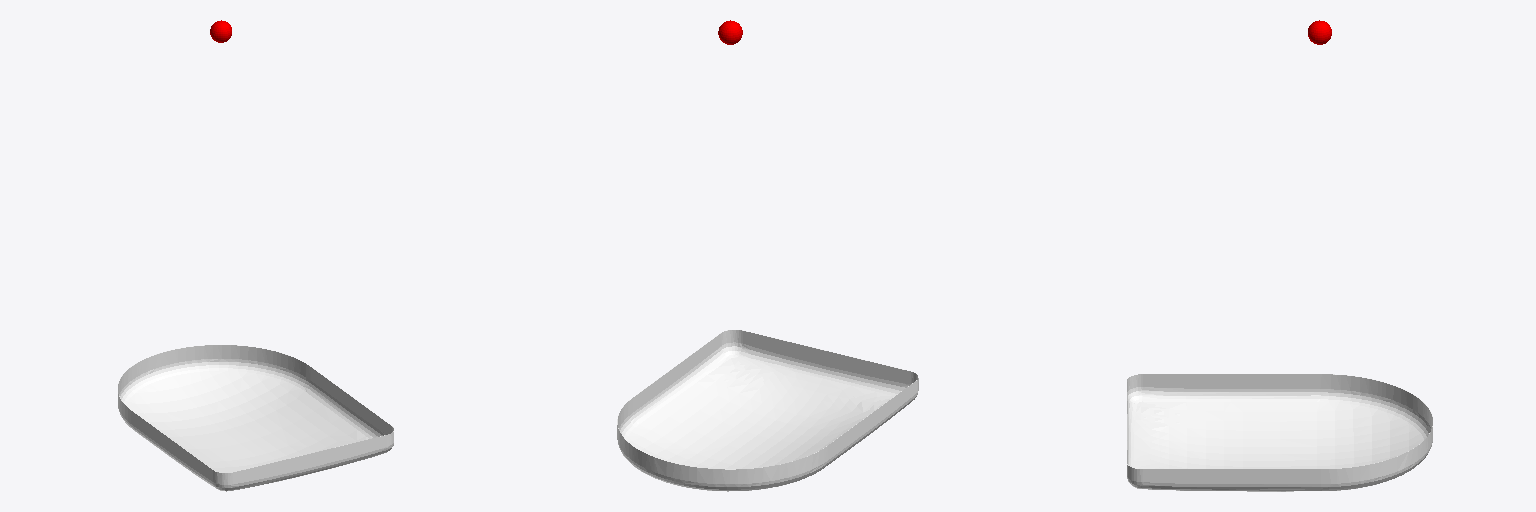
The robot description file, URDF, robot "panda":
<?xml version="1.0" ?>

<robot name="panda" xmlns:xacro="http://www.ros.org/wiki/xacro">

  <material name="Blue">
    <color rgba="0 0.1 1.0 1.0"/>
  </material>
  <material name="Red">
    <color rgba="1.0 0.0 0.0 1.0"/>
  </material>
  <material name="TransparentRed">
    <color rgba="0.9 0 0.2 0.5"/>
  </material>

  <!-- connect arm to world -->
    <link name="world"/>
    <joint name="world_joint" type="fixed">
      <parent link="world"/>
      <child link="fixed_base"/>
      <origin rpy="0.0 0.0 -3.14" xyz="0.0 0.0 0.0"/>
    </joint>

  <link name="fixed_base">
  	<inertial>
      <origin rpy="0 0 0" xyz="0 0 0.05"/>
       <mass value="2.9"/>
       <inertia ixx="0.1" ixy="0" ixz="0" iyy="0.1" iyz="0" izz="0.1"/>
    </inertial>
    <visual>
      <geometry>
        <mesh filename="../collision/link0.obj"/>
      </geometry>
      <material name="panda_white">
    		<color rgba="1. 1. 1. 1."/>
  		</material>
    </visual>
    <collision>
      <geometry>
        <mesh filename="../collision/link0.obj"/>
      </geometry>
      <material name="panda_white"/>
    </collision>
  </link>

  <link name="panda_link1">
  	<inertial>
      <origin rpy="0 0 0" xyz="0 -0.04 -0.05"/>
       <mass value="2.7"/>
       <inertia ixx="0.1" ixy="0" ixz="0" iyy="0.1" iyz="0" izz="0.1"/>
    </inertial>
    <visual>
      <geometry>
        <mesh filename="visual/link1.obj"/>
      </geometry>
      <material name="panda_white"/>
    </visual>
    <collision>
      <geometry>
        <mesh filename="../collision/link1.obj"/>
      </geometry>
      <material name="panda_white"/>
    </collision>
  </link>

  <joint name="panda_joint1" type="revolute">
    <safety_controller k_position="100.0" k_velocity="40.0" soft_lower_limit="-2.8973" soft_upper_limit="2.8973"/>
    <origin rpy="0 0 0" xyz="0 0 0.333"/>
    <parent link="fixed_base"/>
    <child link="panda_link1"/>
    <axis xyz="0 0 1"/>
    <limit effort="87" lower="-100" upper="100" velocity="2.1750"/>
  </joint>

  <link name="panda_link2">
  	<inertial>
      <origin rpy="0 0 0" xyz="0 -0.04 0.06"/>
       <mass value="2.73"/>
       <inertia ixx="0.1" ixy="0" ixz="0" iyy="0.1" iyz="0" izz="0.1"/>
    </inertial>
    <visual>
      <geometry>
        <mesh filename="visual/link2.obj"/>
      </geometry>
      <material name="panda_white"/>
    </visual>
    <collision>
      <geometry>
        <mesh filename="../collision/link2.obj"/>
      </geometry>
      <material name="panda_white"/>
    </collision>
  </link>

  <joint name="panda_joint2" type="revolute">
    <safety_controller k_position="100.0" k_velocity="40.0" soft_lower_limit="-1.7628" soft_upper_limit="1.7628"/>
    <origin rpy="-1.57079632679 0 0" xyz="0 0 0"/>
    <parent link="panda_link1"/>
    <child link="panda_link2"/>
    <axis xyz="0 0 1"/>
    <limit effort="87" lower="-100" upper="100" velocity="2.1750"/>
  </joint>

  <link name="panda_link3">
	  <inertial>
      <origin rpy="0 0 0" xyz="0.01 0.01 -0.05"/>
       <mass value="2.04"/>
       <inertia ixx="0.1" ixy="0" ixz="0" iyy="0.1" iyz="0" izz="0.1"/>
    </inertial>
    <visual>
      <geometry>
        <mesh filename="visual/link3.obj"/>
      </geometry>
      <material name="panda_red">
    		<color rgba="1. 1. 1. 1."/>
  		</material>
    </visual>
    <collision>
      <geometry>
        <mesh filename="../collision/link3.obj"/>
      </geometry>
    </collision>
  </link>

  <joint name="panda_joint3" type="revolute">
    <safety_controller k_position="100.0" k_velocity="40.0" soft_lower_limit="-2.8973" soft_upper_limit="2.8973"/>
    <origin rpy="1.57079632679 0 0" xyz="0 -0.316 0"/>
    <parent link="panda_link2"/>
    <child link="panda_link3"/>
    <axis xyz="0 0 1"/>
    <limit effort="87" lower="-100" upper="100" velocity="2.1750"/>
  </joint>

  <link name="panda_link4">
  	<inertial>
      <origin rpy="0 0 0" xyz="-0.03 0.03 0.02"/>
       <mass value="2.08"/>
       <inertia ixx="0.1" ixy="0" ixz="0" iyy="0.1" iyz="0" izz="0.1"/>
    </inertial>
    <visual>
      <geometry>
        <mesh filename="visual/link4.obj"/>
      </geometry>
      <material name="panda_white"/>
    </visual>
    <collision>
      <geometry>
        <mesh filename="../collision/link4.obj"/>
      </geometry>
      <material name="panda_white"/>
    </collision>
  </link>

  <joint name="panda_joint4" type="revolute">
    <safety_controller k_position="100.0" k_velocity="40.0" soft_lower_limit="-3.0718" soft_upper_limit="-0.0698"/>
    <origin rpy="1.57079632679 0 0" xyz="0.0825 0 0"/>
    <parent link="panda_link3"/>
    <child link="panda_link4"/>
    <axis xyz="0 0 1"/>
    <limit effort="87" lower="-100" upper="100" velocity="2.1750"/>
  </joint>

  <link name="panda_link5">
  	<inertial>
      <origin rpy="0 0 0" xyz="0 0.04 -0.12"/>
       <mass value="3"/>
       <inertia ixx="0.1" ixy="0" ixz="0" iyy="0.1" iyz="0" izz="0.1"/>
    </inertial>
    <visual>
      <geometry>
        <mesh filename="visual/link5.obj"/>
      </geometry>
      <material name="panda_white"/>
    </visual>
    <collision>
      <geometry>
        <mesh filename="../collision/link5.obj"/>
      </geometry>
      <material name="panda_white"/>
    </collision>
  </link>

  <joint name="panda_joint5" type="revolute">
    <safety_controller k_position="100.0" k_velocity="40.0" soft_lower_limit="-2.8973" soft_upper_limit="2.8973"/>
    <origin rpy="-1.57079632679 0 0" xyz="-0.0825 0.384 0"/>
    <parent link="panda_link4"/>
    <child link="panda_link5"/>
    <axis xyz="0 0 1"/>
    <limit effort="12" lower="-100" upper="100" velocity="2.6100"/>
  </joint>

  <link name="panda_link6">
  	<inertial>
      <origin rpy="0 0 0" xyz="0.04 0 0"/>
       <mass value="1.3"/>
       <inertia ixx="0.1" ixy="0" ixz="0" iyy="0.1" iyz="0" izz="0.1"/>
    </inertial>
    <visual>
      <geometry>
        <mesh filename="visual/link6.obj"/>
      </geometry>
      <material name="panda_white"/>
    </visual>
    <collision>
      <geometry>
        <mesh filename="../collision/link6.obj"/>
      </geometry>
      <material name="panda_white"/>
    </collision>
  </link>

  <joint name="panda_joint6" type="revolute">
    <safety_controller k_position="100.0" k_velocity="40.0" soft_lower_limit="-0.0175" soft_upper_limit="3.7525"/>
    <origin rpy="1.57079632679 0 0" xyz="0 0 0"/>
    <parent link="panda_link5"/>
    <child link="panda_link6"/>
    <axis xyz="0 0 1"/>
    <limit effort="12" lower="-100" upper="100" velocity="2.6100"/>
  </joint>

  <link name="panda_link7">
  	<inertial>
      <origin rpy="0 0 0" xyz="0 0 0.08"/>
       <mass value=".2"/>
       <inertia ixx="0.1" ixy="0" ixz="0" iyy="0.1" iyz="0" izz="0.1"/>
    </inertial>
    <visual>
      <geometry>
        <mesh filename="../collision/link7.obj"/>
      </geometry>
      <material name="panda_white"/>
    </visual>
    <collision>
      <geometry>
        <mesh filename="../collision/link7.obj"/>
      </geometry>
      <material name="panda_white"/>
    </collision>
  </link>

  <joint name="panda_joint7" type="revolute">
    <safety_controller k_position="100.0" k_velocity="40.0" soft_lower_limit="-2.8973" soft_upper_limit="2.8973"/>
    <origin rpy="1.57079632679 0 0" xyz="0.088 0 0"/>
    <parent link="panda_link6"/>
    <child link="panda_link7"/>
    <axis xyz="0 0 1"/>
    <limit effort="12" lower="-100" upper="100" velocity="2.6100"/>
  </joint>


  <!-- End Effector -->

  <link name="ee_link">
    <visual>
      <origin rpy="0 0 0" xyz="0 0 0"/>
      <geometry>
        <sphere radius="0.001"/>
      </geometry>
       <material name="Red"/>
    </visual>
    <collision>
      <geometry>
        <sphere radius="0.01"/>
      </geometry>
      <origin rpy="0 0 0" xyz="0.0 0 0"/>
    </collision>
  	 <inertial>
       <origin rpy="0 0 0" xyz="0 0 0"/>
       <mass value="0.0"/>
       <inertia ixx="0.1" ixy="0" ixz="0" iyy="0.1" iyz="0" izz="0.1"/>
    </inertial>
  </link>

  <joint name="ee_joint" type="fixed">
    <origin rpy="0.0 0.0 0.0" xyz="0 0 0.107"/>
    <parent link="panda_link7"/>
    <child link="ee_link"/>
    <axis xyz="0 0 0"/>
  </joint>


  <!-- Digit -->
  <link
    name="digit_body_link">
    <inertial>
      <origin
        xyz="0.00443338071044421 -0.0140914049333968 4.96453152977634E-09+0.035"
        rpy="0 0 0" />
      <mass
        value="0.0077837104153161" />
      <inertia
        ixx="7.77176839696665E-07"
        ixy="-5.52554519832781E-09"
        ixz="-2.21347841658254E-13"
        iyy="1.5788930001559E-06"
        iyz="-8.96409493368731E-14"
        izz="1.05613167218354E-06" />
    </inertial>
    <visual>
      <origin
        xyz="0 0 0.035"
        rpy="0 0 0" />
      <geometry>
        <mesh filename="../digit/standard_digit/digit_asmb/meshes/digit_body.STL" />
      </geometry>
      <material
        name="digit_body">
        <color
          rgba="0.0 0.0 0.0 1" />
      </material>
    </visual>
    <collision>
      <origin
        xyz="0 0 0.035"
        rpy="0 0 0" />
      <geometry>
        <mesh filename="../digit/standard_digit/digit_asmb/meshes/digit_body.STL" />
      </geometry>
    </collision>
  </link>

  <joint name="digit_ee_joint" type="fixed">
    <parent link="ee_link"/>
    <child link="digit_body_link"/>
    <origin rpy="0.0 0.0 -1.57" xyz="0.0 0.0 0.0"/>
  </joint>

  <link name="digit_tip_link">
    <inertial>
      <origin
        xyz="-2.15568578500849E-07 0.00554133274527847 -0.00576051345741577-0.035"
        rpy="0 0 0" />
      <mass
        value="0.00130411151086353" />
      <inertia
        ixx="5.48284140746448E-08"
        ixy="-4.02703926962539E-12"
        ixz="-5.29135712007007E-14"
        iyy="3.03790231207661E-08"
        iyz="-1.56642204167579E-10"
        izz="8.26200689636922E-08" />
    </inertial>
    <visual>
      <origin
        xyz="0 0 -0.035"
        rpy="0 0 0" />
      <geometry>
        <mesh
          filename="../digit/standard_digit/digit_asmb_hollow/meshes/digit_core.STL" scale="1.0 1.0 1.0"/>
      </geometry>
      <material
        name="digit_skin">
        <color
          rgba="1.0 1.0 1.0 1" />
      </material>
    </visual>
    <collision>
      <origin
        xyz="0 0 -0.035"
        rpy="0 0 0" />
      <geometry>
        <mesh
          filename="../digit/standard_digit/digit_asmb/meshes/digit_core.STL" />
      </geometry>
    </collision>
  </link>

  <joint name="digit_tip_to_body" type="fixed">
    <origin
      xyz="-0.00151521951809463 -1.36251105150219E-05 -0.00415"
      rpy="-3.14159265358979 0 1.5707963267949" />
    <parent link="digit_body_link" />
    <child link="digit_tip_link" />
    <axis xyz="0 0 0" />
  </joint>

  <!-- TCP -->
  <link name="tcp_link">
    <visual>
      <origin rpy="0 0 0" xyz="0 0 0"/>
      <geometry>
        <sphere radius="0.001"/>
      </geometry>
       <material name="TransparentRed"/>
    </visual>
    <inertial>
      <mass value="0.0"/>
      <origin rpy="0.0 0.0 1.57" xyz="0.0 0.0 0.0"/>
      <inertia ixx="1.0" ixy="0.0" ixz="0.0" iyy="1.0" iyz="0.0" izz="1.0"/>
    </inertial>
  </link>

  <joint name="tcp_joint" type="fixed">
    <parent link="digit_body_link"/>
    <child link="tcp_link"/>
    <origin rpy="0 0 0" xyz="0.0007 0.0 0.040"/>
  </joint>

</robot>

--- Render facts (derived) ---
Views: 3 orthographic renders of the robot side by side, from view 1: azimuth 30°, elevation 25°; view 2: azimuth 150°, elevation 25°; view 3: azimuth 270°, elevation 25°.
Model panda with 13 links and 12 joints (7 revolute, 5 fixed), rooted at world, posed every joint at zero.
Links seen in each view (by area): view 1: digit_tip_link; view 2: digit_tip_link; view 3: digit_tip_link.
Boxes of the visible links, bbox=[...] form: digit_tip_link: bbox=[118, 345, 393, 491]; digit_tip_link: bbox=[617, 330, 918, 491]; digit_tip_link: bbox=[1127, 374, 1432, 491].
Size in the robot's own frame: 0.0184 by 0.025 by 0.042 metres.
Meshes: 10 distinct files referenced, 1 mesh visuals loaded (1 binary STL); not drawn: 9 (reference not matched to a file when rendering).